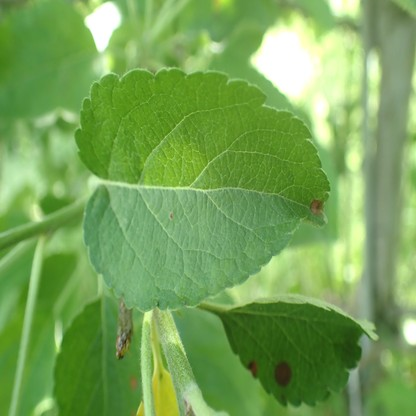frogeye_leaf_spot: (274, 361, 293, 387), (310, 199, 324, 215), (247, 360, 257, 377), (129, 376, 137, 389)
